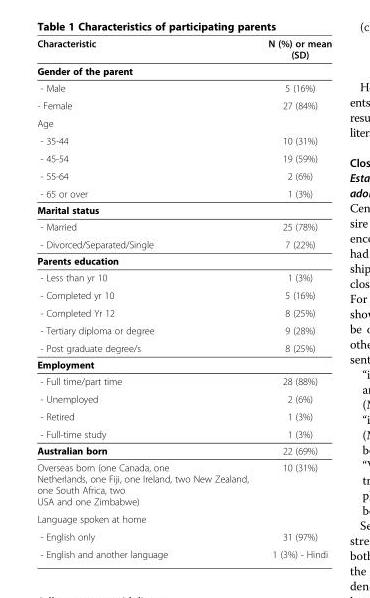table: (36, 37, 331, 559)
table column: (36, 37, 257, 559), (257, 37, 331, 559)
table column header: (36, 37, 331, 62)
table projected row header: (36, 509, 331, 527), (36, 62, 331, 79), (36, 114, 331, 131), (36, 201, 331, 218), (36, 355, 331, 372), (36, 252, 331, 268)
table row: (36, 458, 331, 509), (36, 37, 331, 62), (36, 96, 331, 114), (36, 131, 331, 149), (36, 166, 331, 184), (36, 268, 331, 286), (36, 303, 331, 321), (36, 321, 331, 339), (36, 389, 331, 407), (36, 407, 331, 425), (36, 509, 331, 527), (36, 527, 331, 545), (36, 62, 331, 79), (36, 79, 331, 96), (36, 114, 331, 131), (36, 149, 331, 166), (36, 184, 331, 201), (36, 201, 331, 218), (36, 218, 331, 235), (36, 235, 331, 252), (36, 286, 331, 303), (36, 355, 331, 372), (36, 372, 331, 389), (36, 425, 331, 442), (36, 252, 331, 268), (36, 339, 331, 355), (36, 442, 331, 458), (36, 545, 331, 559)
